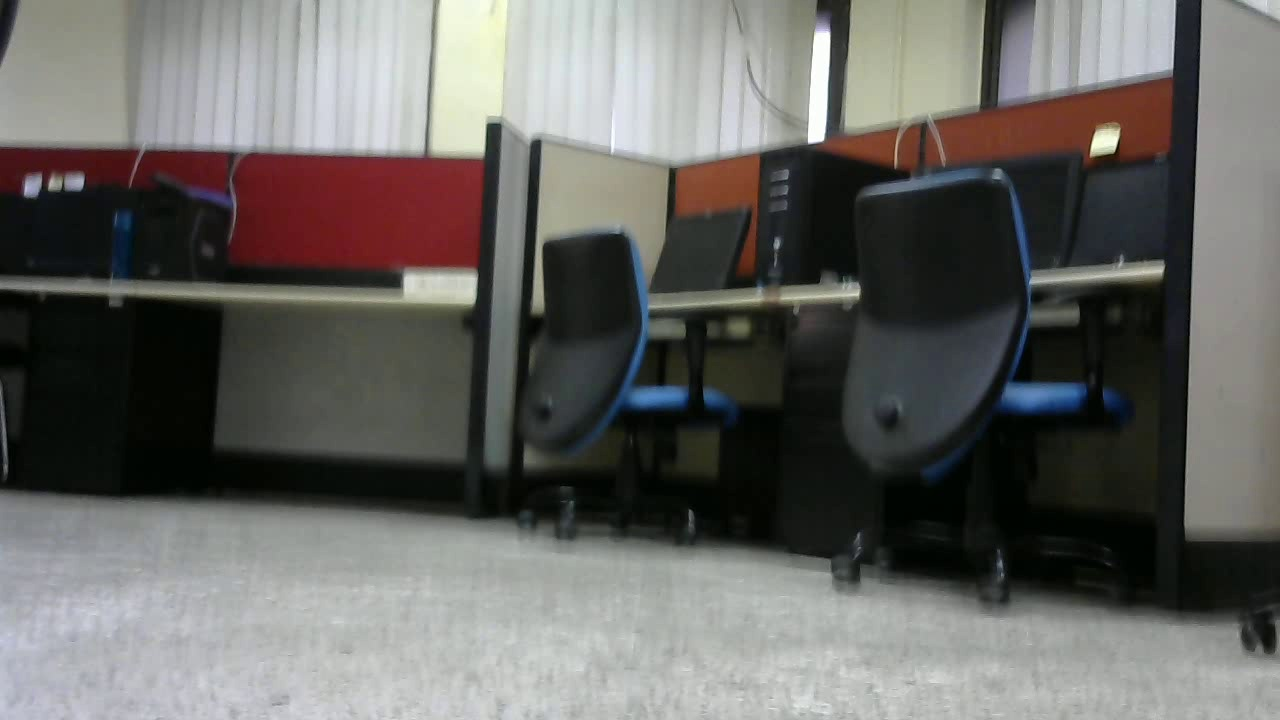chair: (828, 161, 1146, 617), (519, 219, 741, 548)
